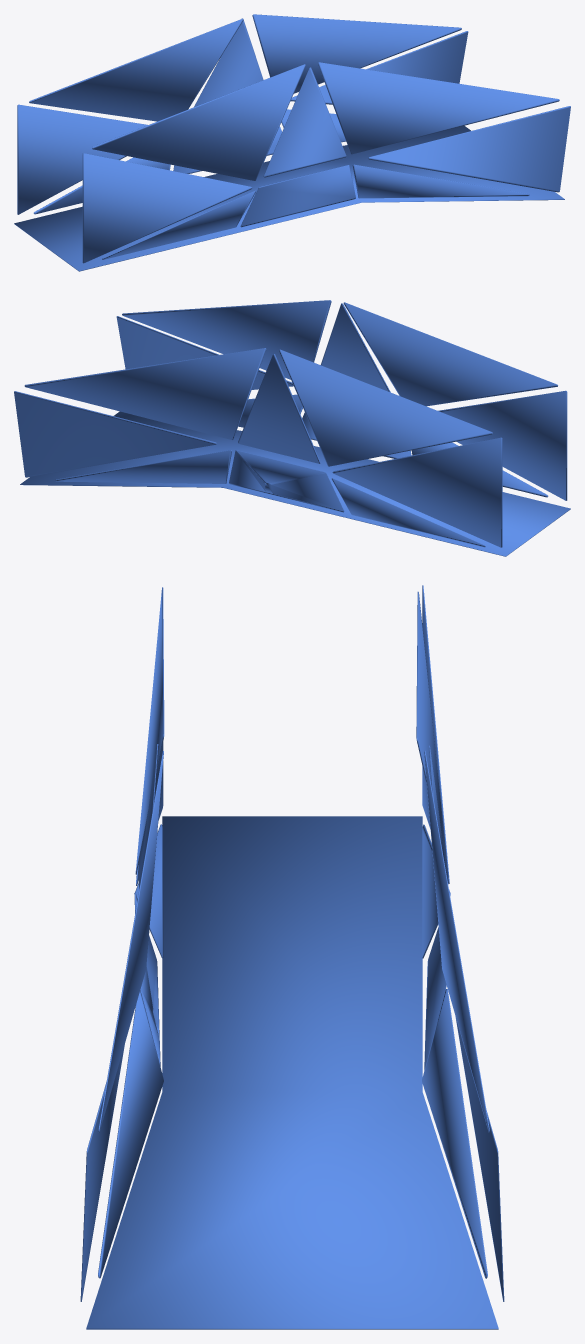
Rendered from body_panels.dae.
The picture shows the model from 3 angles, top to bottom: view 1: azimuth 30°, elevation 25°; view 2: azimuth 150°, elevation 25°; view 3: azimuth 270°, elevation 25°; orthographic projection. The views are drawn at different scales.
Visible parts, largest first — view 1: body_panels; view 2: body_panels; view 3: body_panels.
Part boxes in pixels (bbox=[...]): body_panels: bbox=[14, 14, 570, 271]; body_panels: bbox=[14, 300, 570, 556]; body_panels: bbox=[80, 585, 504, 1329].
Size of the model in its own units: 1.66 by 0.6432 by 0.6037.
